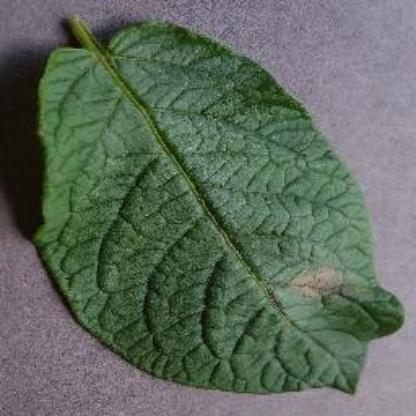Late-Blight: (26, 7, 406, 405)
